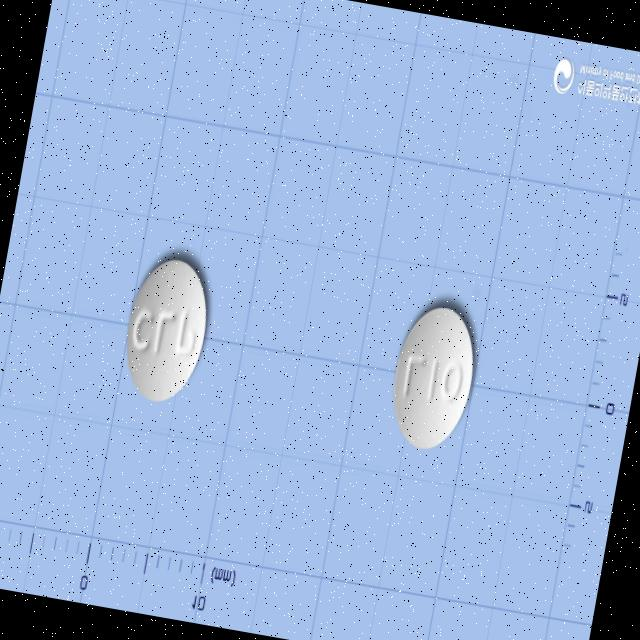Luarva - 20mg: (115, 252, 219, 412), (384, 298, 484, 455)
